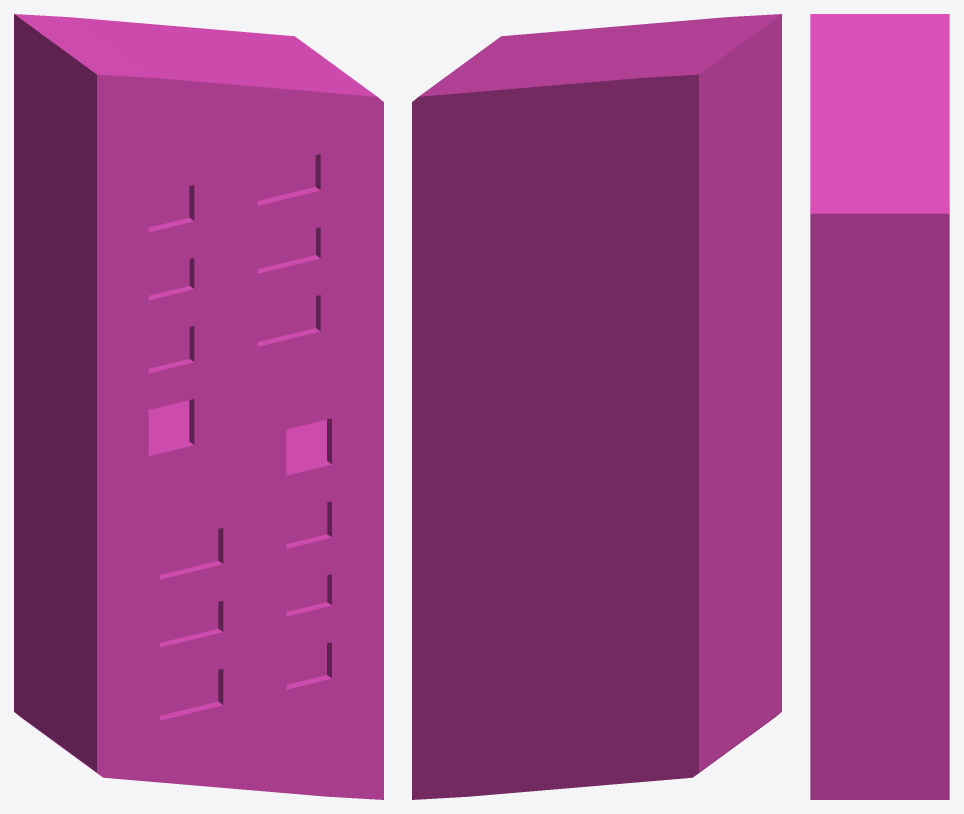
The model's file is house4.fbx.
The picture shows the model from 3 angles, left to right: view 1: azimuth 30°, elevation 25°; view 2: azimuth 150°, elevation 25°; view 3: azimuth 270°, elevation 25°; orthographic projection. The views are drawn at different scales.
Parts seen in each view (by area): view 1: Cube.003; view 2: Cube.003; view 3: Cube.003.
Boxes of the visible parts, x1=… form: Cube.003: x1=14, y1=14, x2=383, y2=799; Cube.003: x1=412, y1=14, x2=781, y2=799; Cube.003: x1=810, y1=14, x2=949, y2=799.
Size of the model in its own units: 400 by 1060 by 200.
